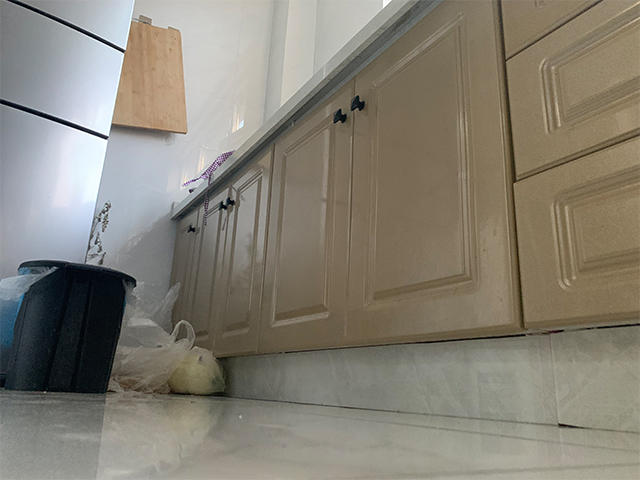cabinet: (169, 1, 640, 432)
trashcan: (4, 259, 138, 395)
